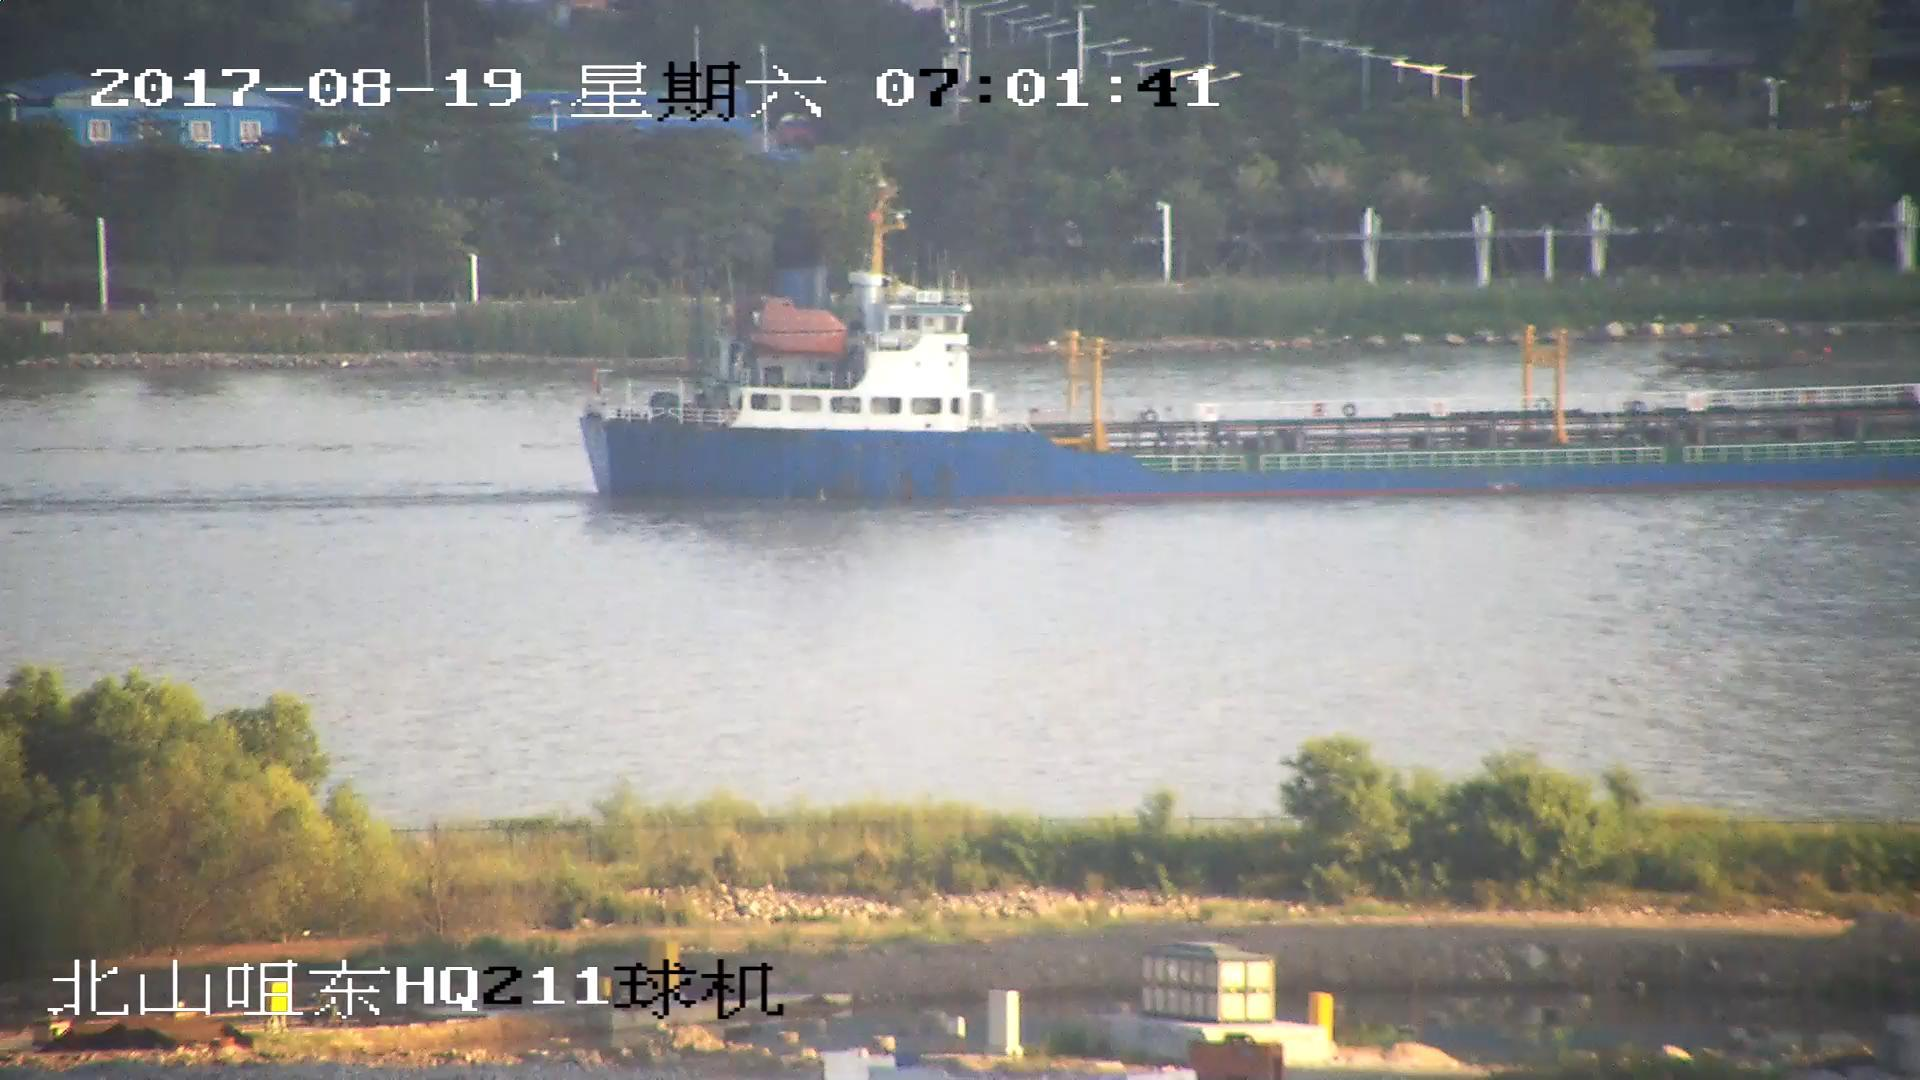Ship: (564, 191, 1920, 517)
